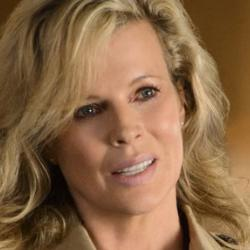face: (3, 8, 245, 242)
